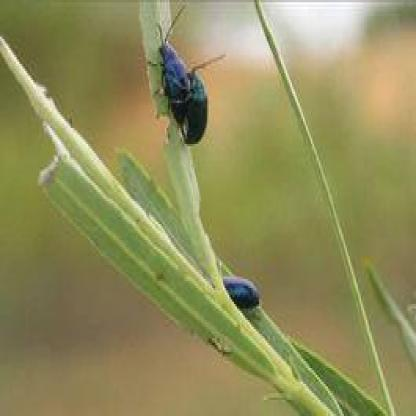beetle: (176, 63, 214, 146), (157, 32, 193, 114), (217, 268, 261, 314)
